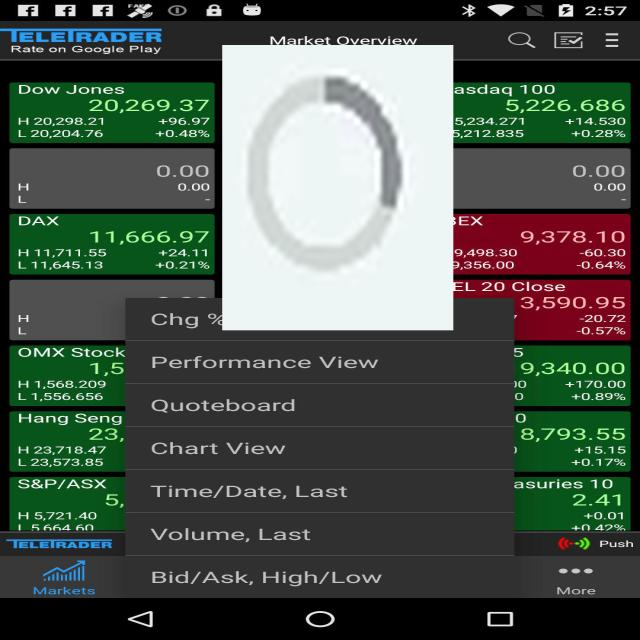misdirection: (222, 45, 453, 330)
